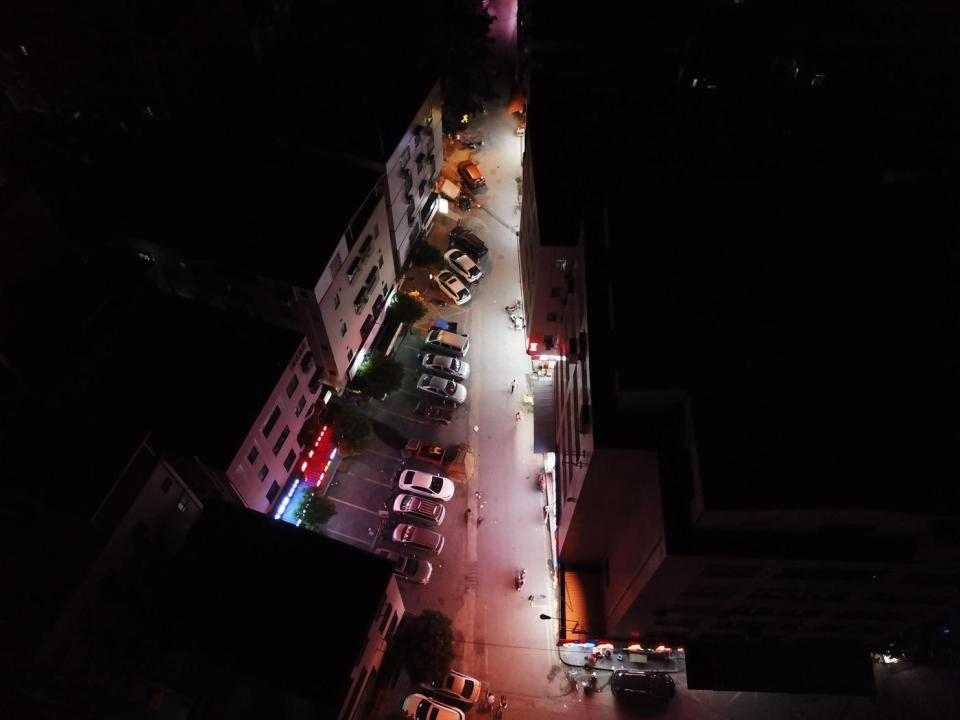car: (611, 668, 675, 704), (419, 667, 481, 704), (371, 548, 433, 585), (392, 492, 446, 528), (401, 692, 465, 720), (398, 469, 454, 501), (392, 523, 445, 556), (416, 373, 467, 404), (433, 269, 472, 305), (421, 353, 470, 381), (443, 248, 482, 283), (449, 226, 488, 258), (458, 159, 486, 189)
van: (424, 328, 470, 358)
